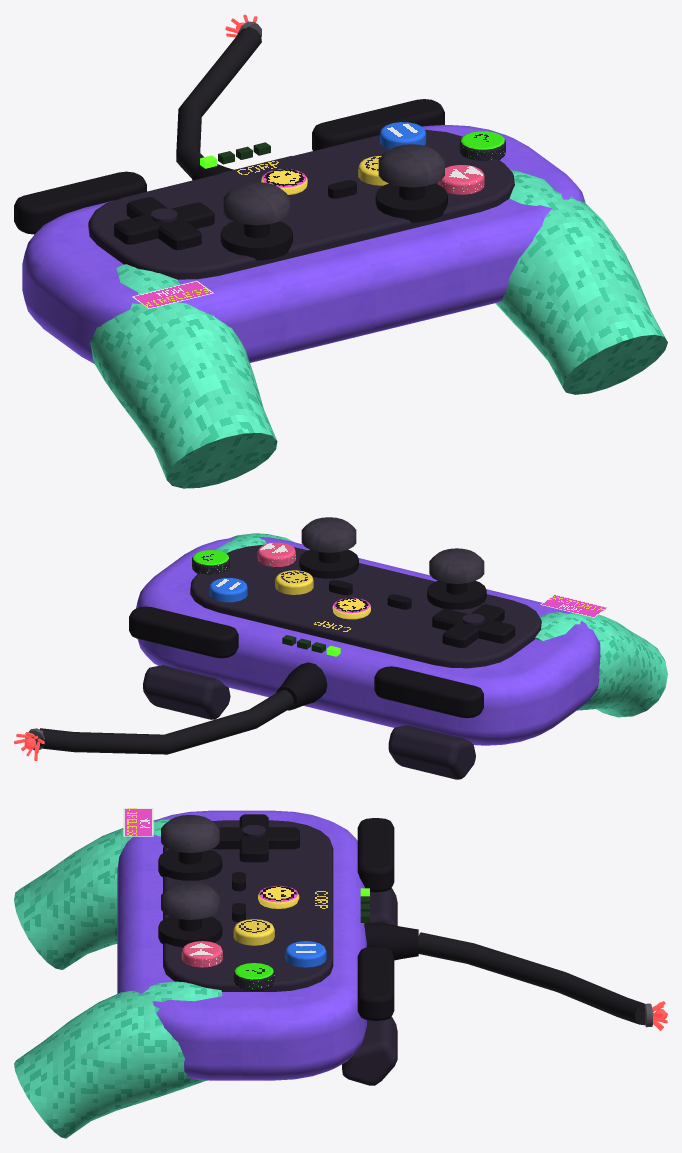
File: w_remote_pad.glb
3 views of the same model, one above another, from view 1: azimuth 30°, elevation 25°; view 2: azimuth 150°, elevation 25°; view 3: azimuth 270°, elevation 25° (orthographic). The views are drawn at different scales.
Parts seen in each view (by area): view 1: gp_body_wzA, gp_body_wzB, gp_body_wzN, gp_decals_wzN; view 2: gp_body_wzB, gp_body_wzA, gp_body_wzN, gp_decals_wzN, ir_wzN; view 3: gp_body_wzA, gp_body_wzB, gp_body_wzN, gp_decals_wzN.
Boxes of the visible parts, bbox=[...] form: gp_body_wzA: bbox=[22, 125, 667, 488]; gp_body_wzB: bbox=[14, 27, 514, 279]; gp_body_wzN: bbox=[200, 21, 505, 194]; gp_decals_wzN: bbox=[132, 156, 300, 308]; gp_body_wzB: bbox=[39, 517, 541, 779]; gp_body_wzA: bbox=[136, 533, 667, 745]; gp_body_wzN: bbox=[25, 542, 370, 750]; gp_decals_wzN: bbox=[299, 594, 607, 635]; ir_wzN: bbox=[14, 732, 44, 760]; gp_body_wzA: bbox=[14, 810, 366, 1138]; gp_body_wzB: bbox=[158, 814, 645, 1085]; gp_body_wzN: bbox=[181, 885, 652, 1027]; gp_decals_wzN: bbox=[123, 808, 329, 915].
Bounding box in the file's own units: 0.1693 × 0.0688 × 0.2148.
Materials: 17 (10 with a texture image).
